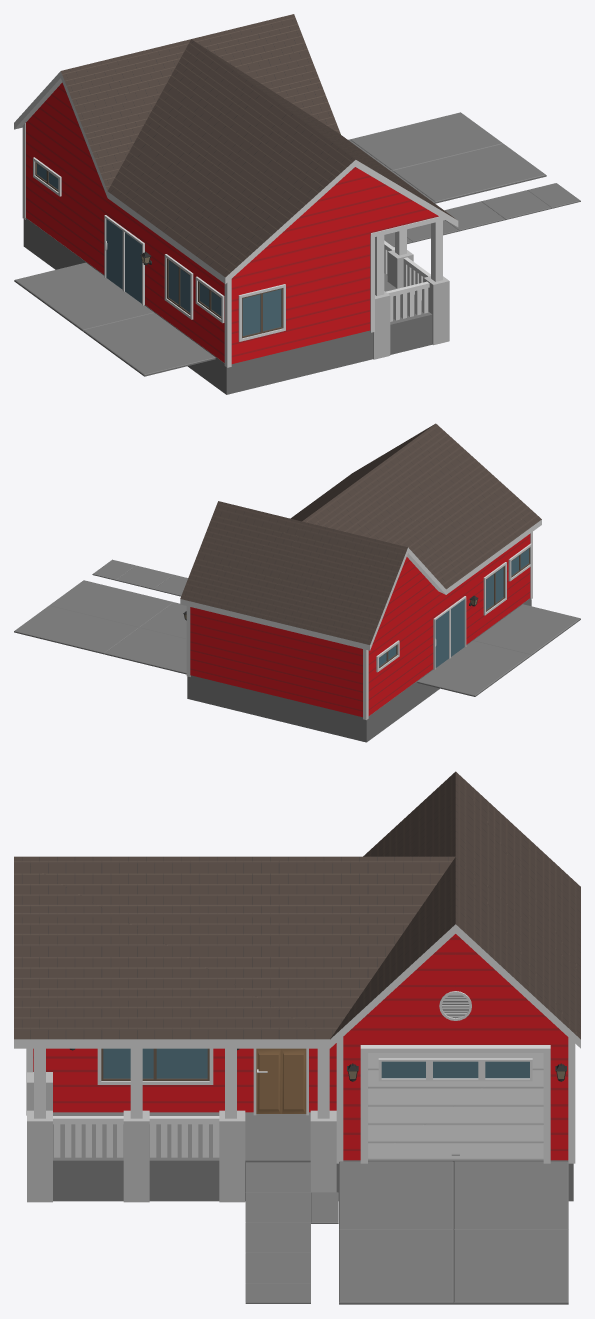
File: SmallHouse_Red.fbx
The picture shows the model from 3 angles, top to bottom: view 1: azimuth 30°, elevation 25°; view 2: azimuth 150°, elevation 25°; view 3: azimuth 270°, elevation 25°; orthographic projection. The views are drawn at different scales.
Visible parts, largest first — view 1: SmallHouse_Red; view 2: SmallHouse_Red; view 3: SmallHouse_Red.
Boxes of the visible parts, x1=… form: SmallHouse_Red: x1=14, y1=14, x2=580, y2=394; SmallHouse_Red: x1=14, y1=423, x2=580, y2=742; SmallHouse_Red: x1=14, y1=771, x2=580, y2=1304.
Bounding box in the file's own units: 58.23 × 23.01 × 42.08.
